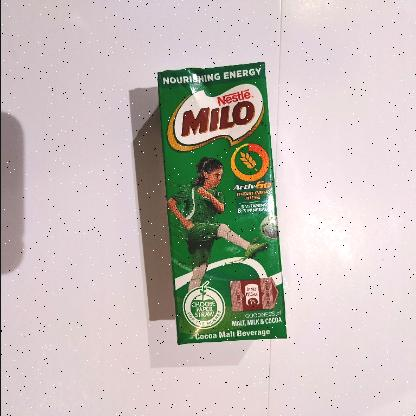Others: (157, 61, 287, 345)
